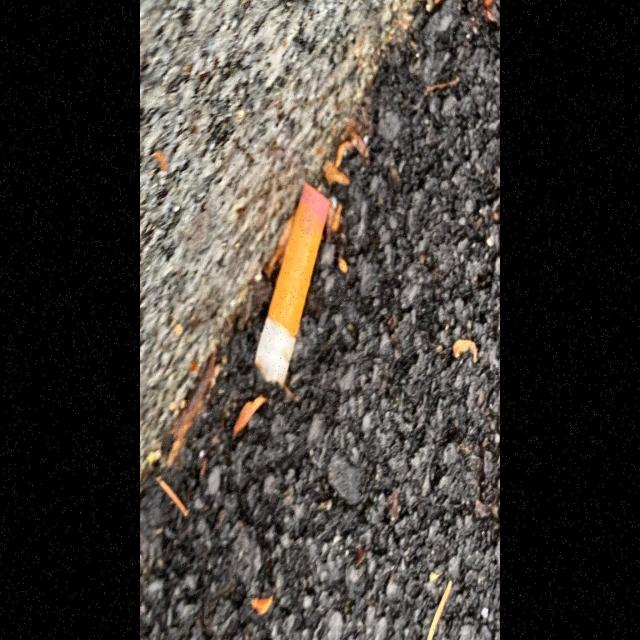other waste: (252, 182, 330, 394)
